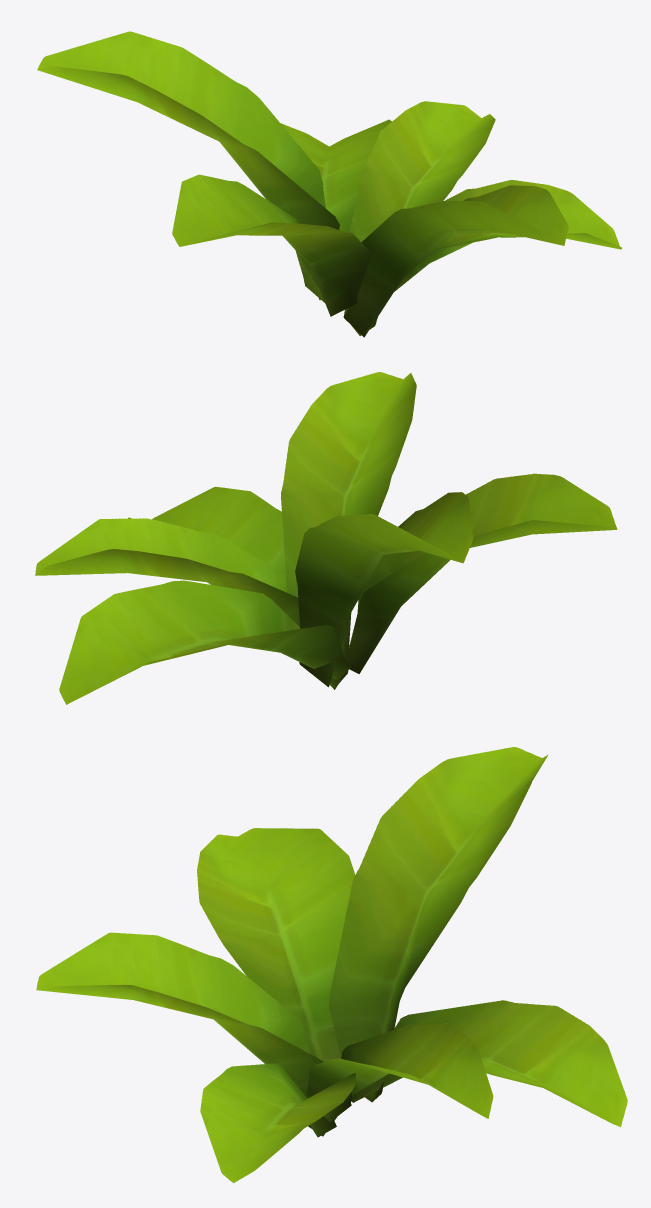
The model's file is SM_Vegetation_05.fbx.
3 views of the same model, one above another, from view 1: azimuth 30°, elevation 25°; view 2: azimuth 150°, elevation 25°; view 3: azimuth 270°, elevation 25° (orthographic). The views are drawn at different scales.
Parts seen in each view (by area): view 1: SM_Vegetation_05_LOD0; view 2: SM_Vegetation_05_LOD0; view 3: SM_Vegetation_05_LOD0.
Part boxes in pixels (left/top/right/bottom): SM_Vegetation_05_LOD0: left=37, top=31, right=621, bottom=337; SM_Vegetation_05_LOD0: left=35, top=372, right=617, bottom=704; SM_Vegetation_05_LOD0: left=36, top=747, right=627, bottom=1183.
Size of what is drawn, in the model's own units: 1.15 by 0.6534 by 1.24.
